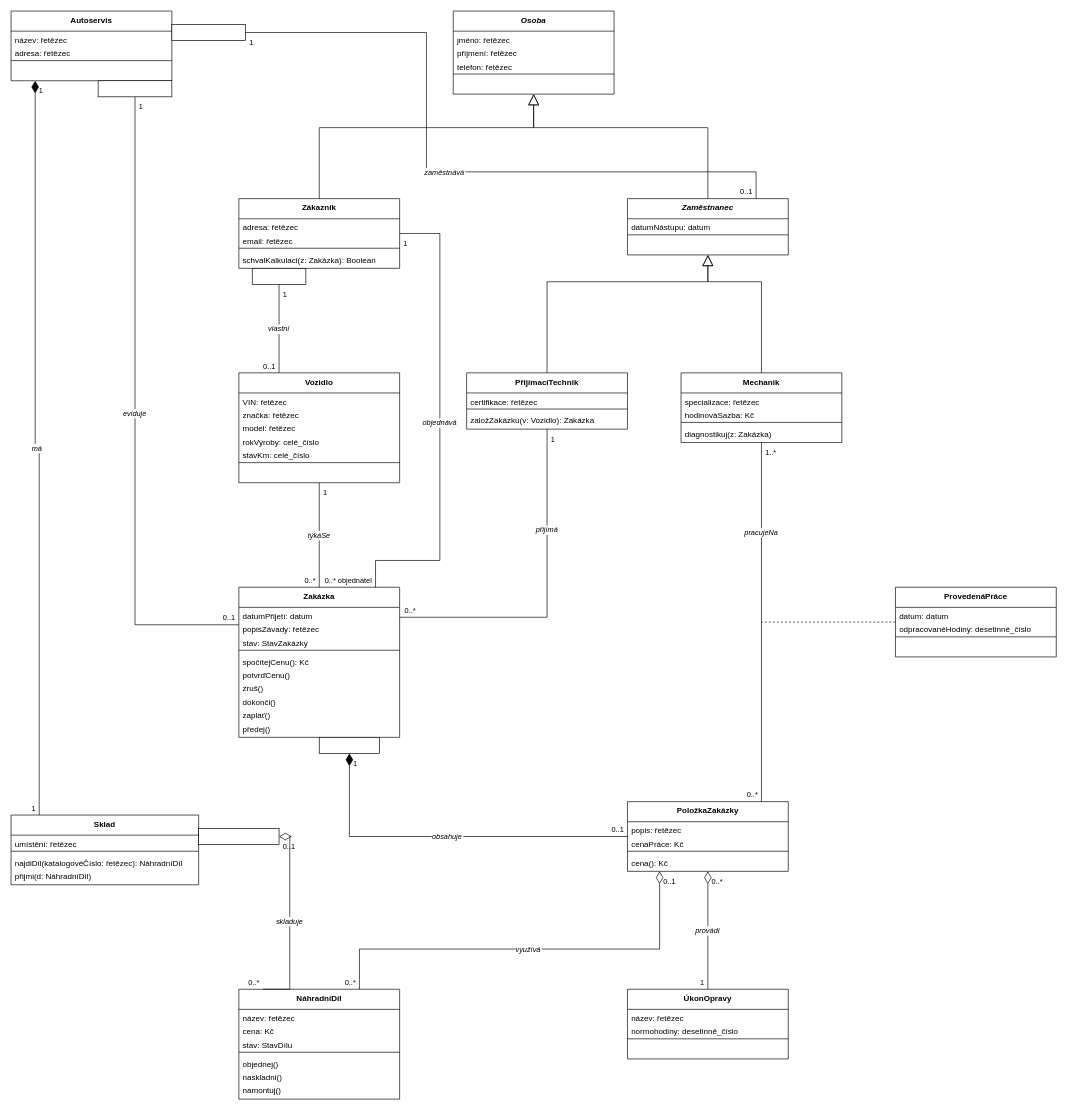
The diagram is 1067 pixels wide and 1110 high, and some of its shapes have lost their labels. The centre of each missing label's shape, as x and y in pixels:
"katalogovéČíslo" goes at [238,836].
"osobníČíslo" goes at [208,32].
"pořadí" goes at [349,745].
"SPZ" goes at [279,276].
"čísloZakázky" goes at [134,88].
